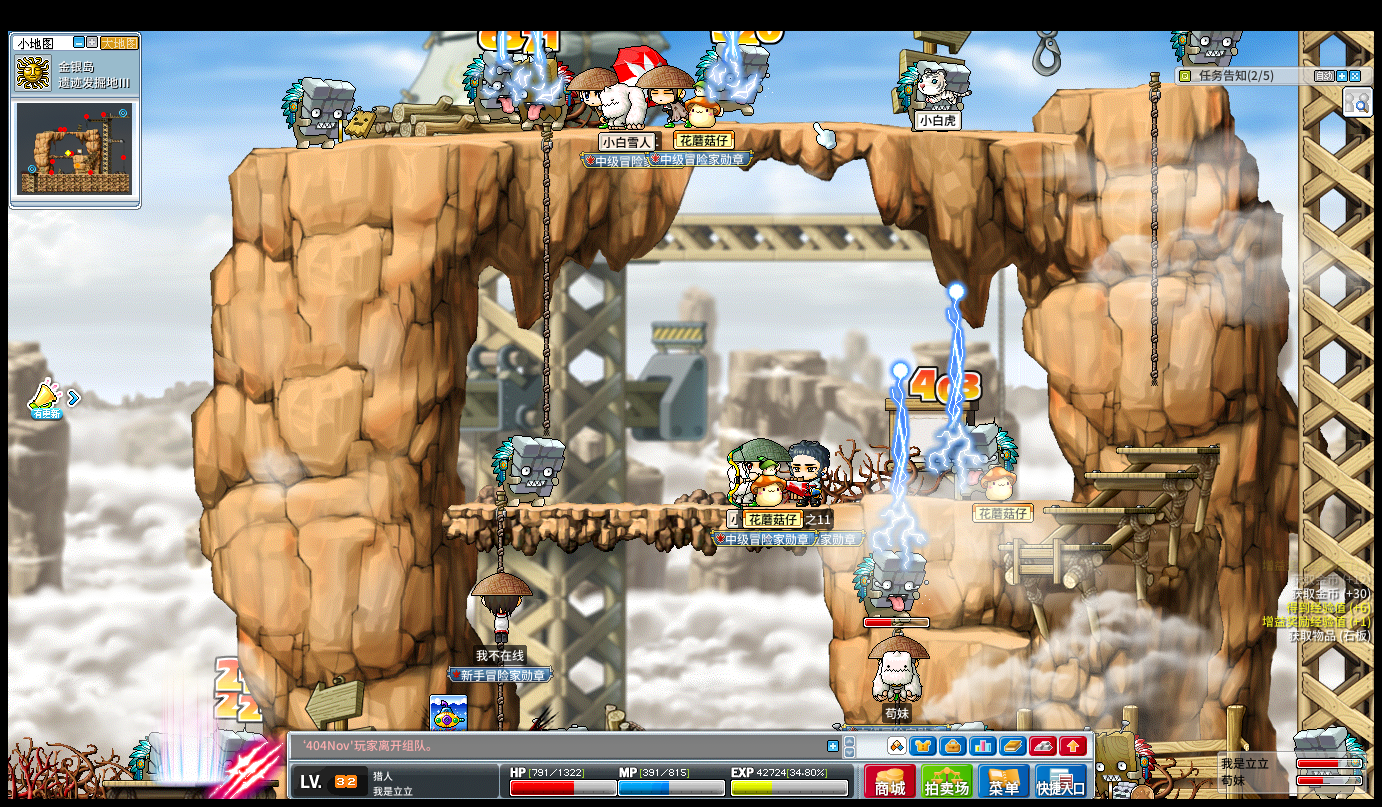floor: (242, 115, 1072, 151), (442, 501, 814, 516), (919, 627, 1030, 648), (1054, 79, 1179, 95), (913, 496, 1080, 507), (1041, 505, 1156, 516), (1079, 470, 1193, 481), (1116, 444, 1219, 455), (995, 542, 1108, 551)
monster: (695, 33, 772, 118), (280, 76, 355, 150), (491, 434, 566, 507), (851, 548, 927, 620), (461, 45, 522, 131), (1089, 725, 1153, 794), (964, 421, 1017, 486), (216, 729, 269, 793)
rope: (1146, 63, 1162, 391), (539, 121, 551, 438), (493, 497, 506, 572)
